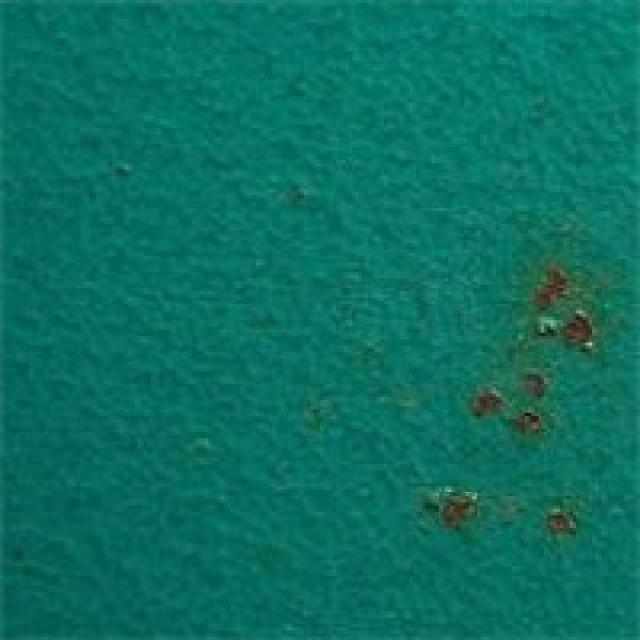Corrosion: (536, 263, 568, 310), (440, 489, 474, 530), (567, 315, 594, 352), (547, 508, 578, 536), (474, 391, 505, 416), (523, 374, 548, 398), (519, 412, 544, 434)
